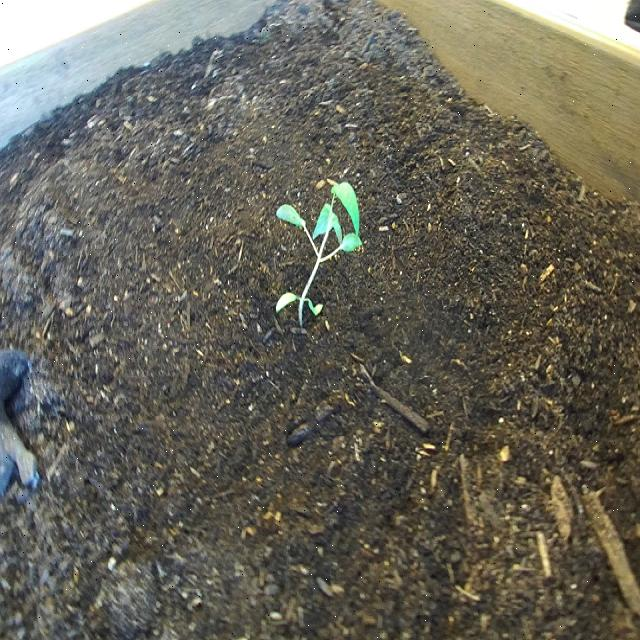Healthy: (273, 171, 368, 333)
